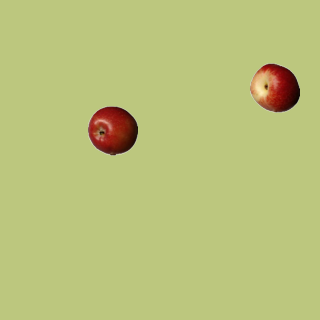Apple Braeburn: (87, 105, 137, 155)
Nectarine: (249, 62, 299, 112)
